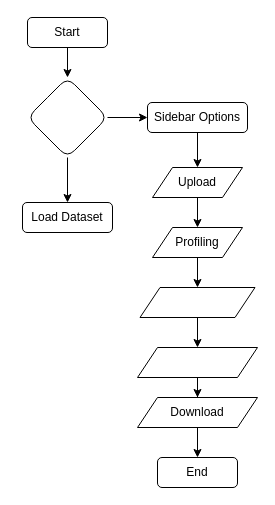
The diagram is 275 pixels wide and 505 high, and some of its shapes have lost their labels. Each missing label, with the centre of its shape:
Data Exist: pixel 67 117
Modelling: pixel 197 362
Visualization: pixel 197 302
